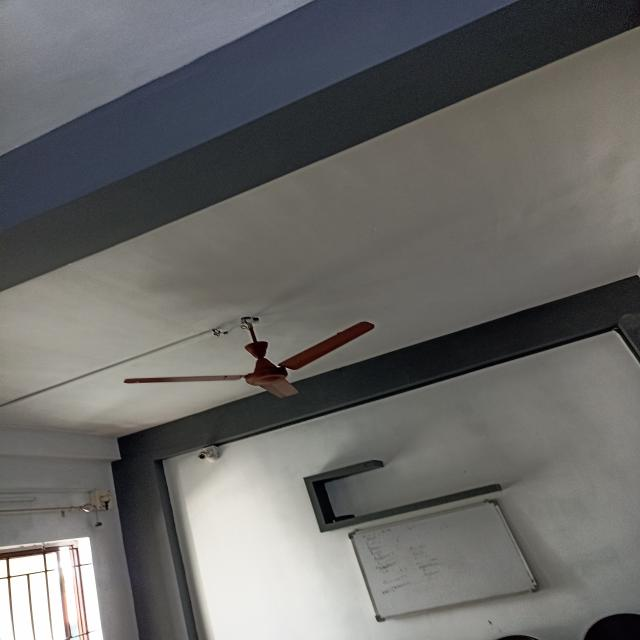fan: (122, 315, 375, 399)
